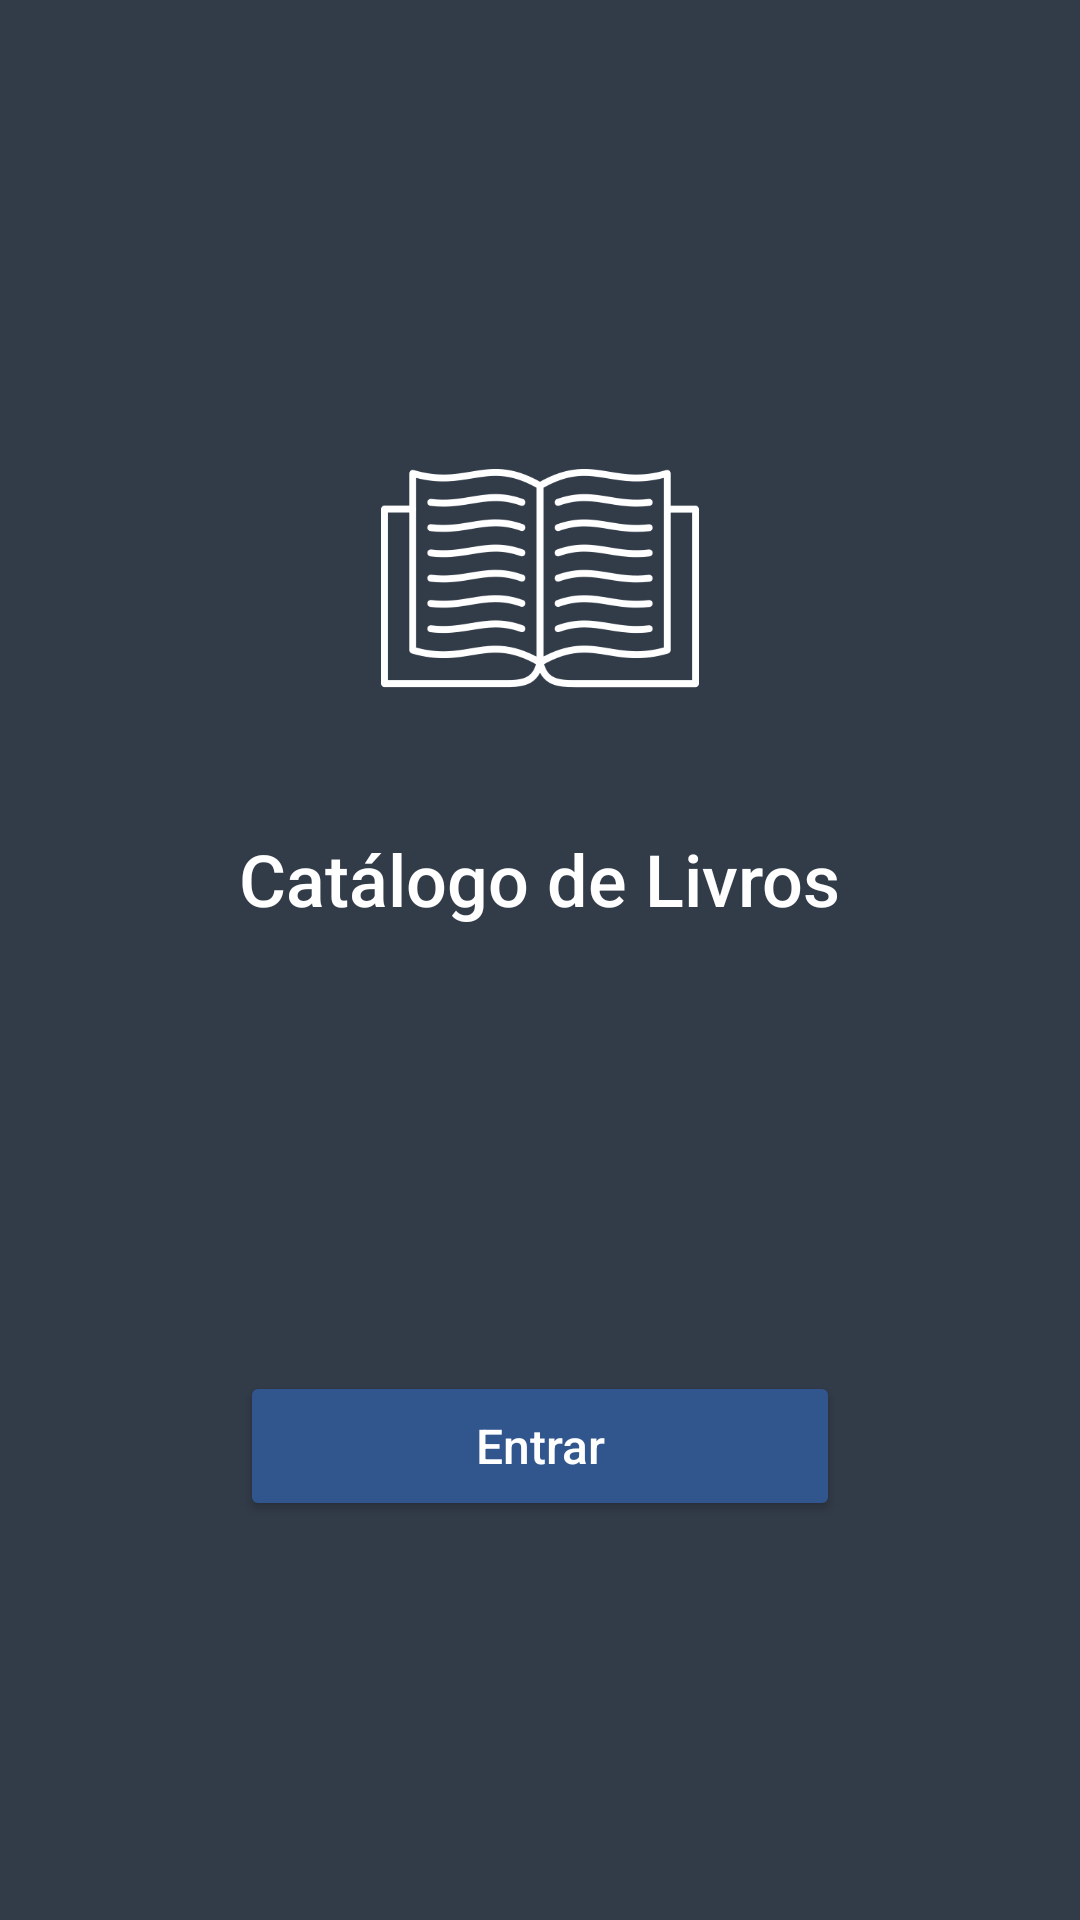

Locate icon controls on the screen. Image size 1080px x 1920px, boxes as (x1, y1, x2, y2).
book: (381, 469, 699, 688)
